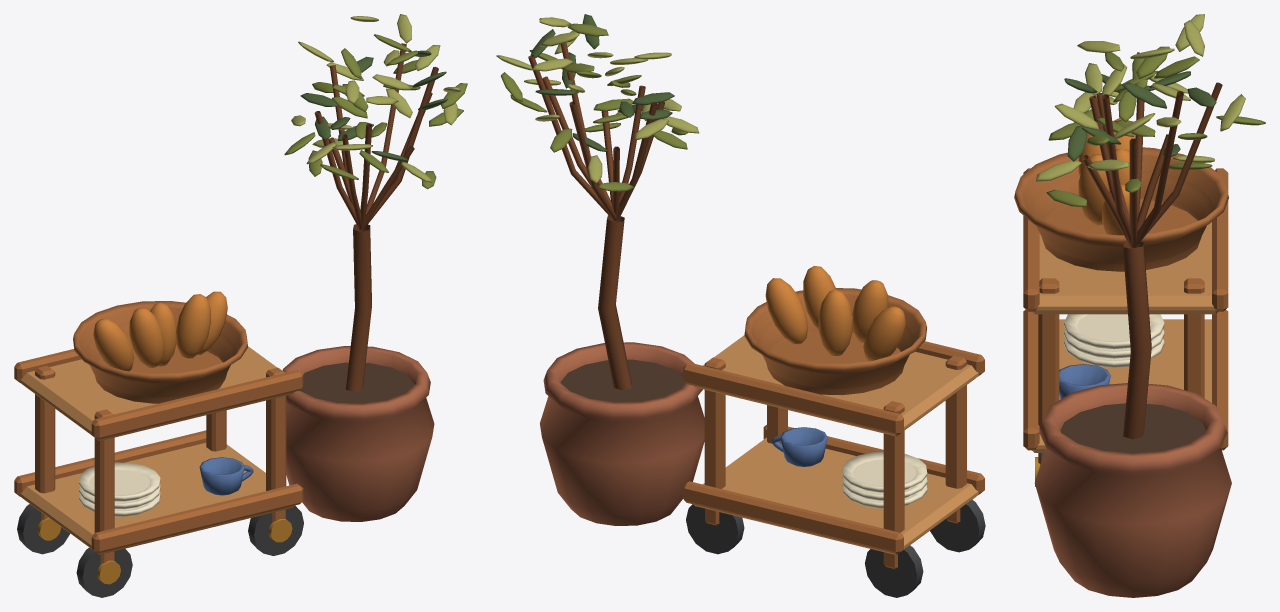
File: service-cart.glb
3 views of the same model, side by side, from view 1: azimuth 30°, elevation 25°; view 2: azimuth 150°, elevation 25°; view 3: azimuth 270°, elevation 25° (orthographic). The views are drawn at different scales.
Parts seen in each view (by area): view 1: service-cart Furniture; view 2: service-cart Furniture; view 3: service-cart Furniture.
Part boxes in pixels (x1,y1,x2,y2): service-cart Furniture: [14, 14, 467, 597]; service-cart Furniture: [496, 14, 985, 597]; service-cart Furniture: [1014, 14, 1265, 597].
Size of the model in its own units: 2 by 2.11 by 0.8551.
